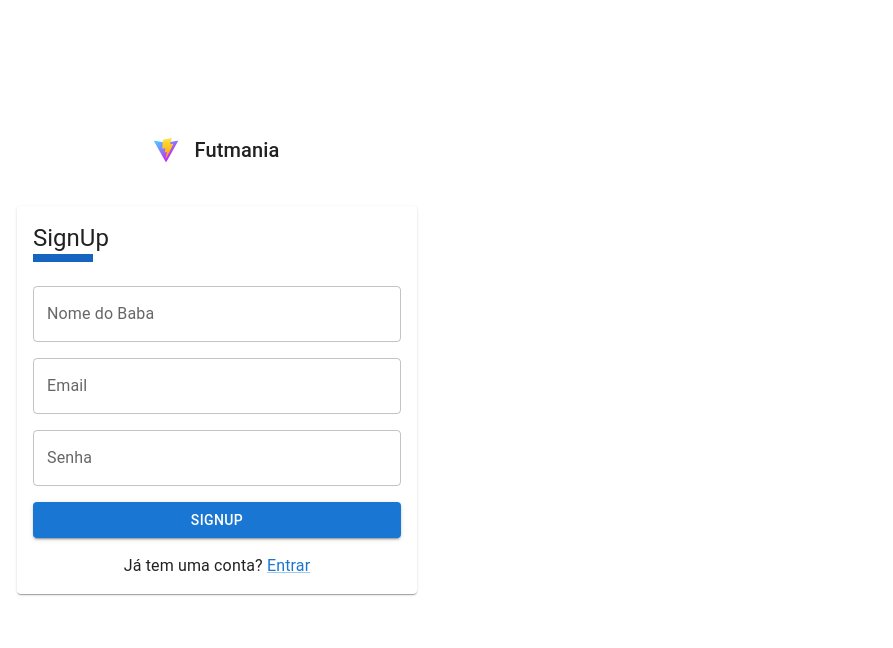
it: <SignUp /> › should render error message
Submit the form, box [33, 286, 401, 538]
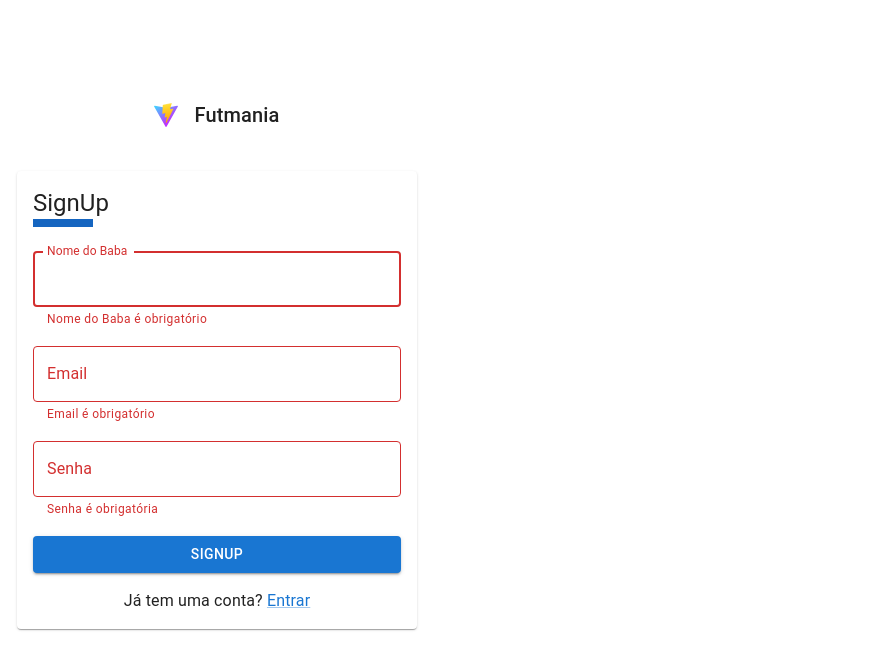
Expected: the text "Email é obrigatório" is shown, [47, 407, 155, 421]
Expected: the text "Senha é obrigatória" is shown, [47, 502, 158, 516]
Type "Test" into the field labelled "Nome do Baba".
click(217, 279); type("Test")  # box [33, 251, 401, 307]
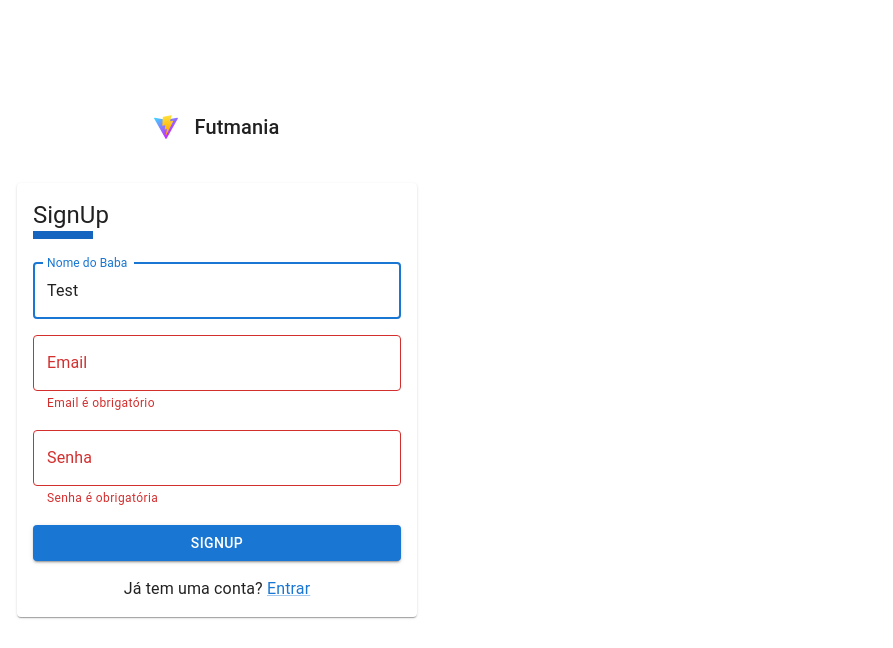
Type "test@test.com" into the field labelled "Email".
click(217, 363); type("test@test.com")  # box [33, 335, 401, 391]
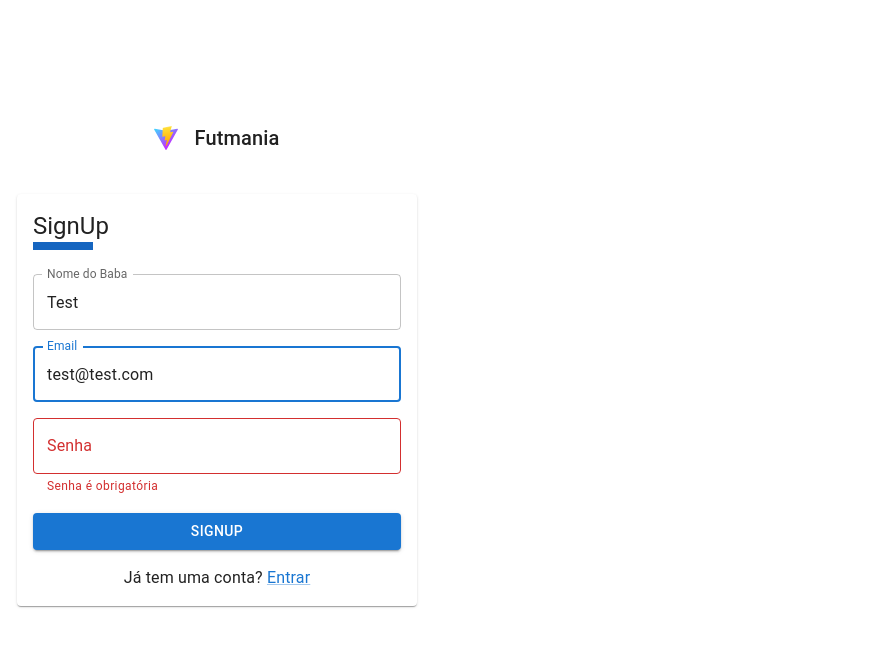
Type "123456" into the password field labelled "Senha".
click(217, 446); type("123456")  # box [33, 418, 401, 474]
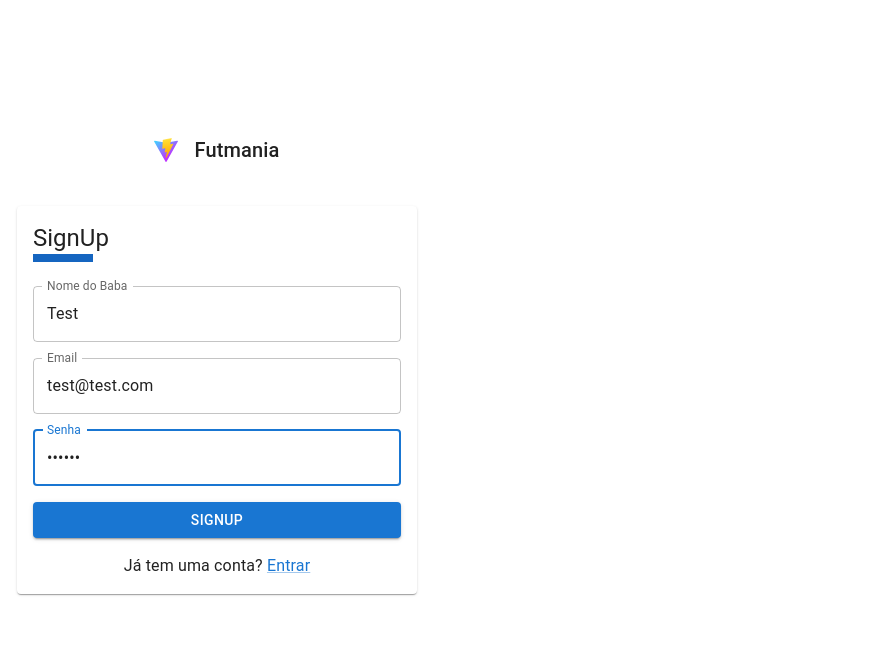
Click the button "SignUp".
click(217, 520)  # box [33, 502, 401, 538]
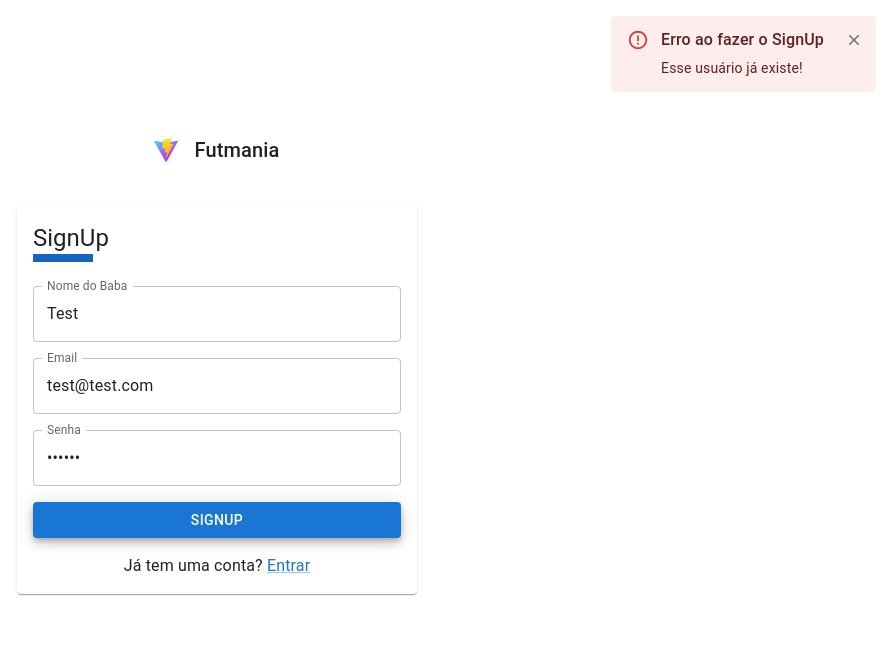
Expected: the text "Esse usuário já existe!" is shown, [661, 60, 803, 76]
